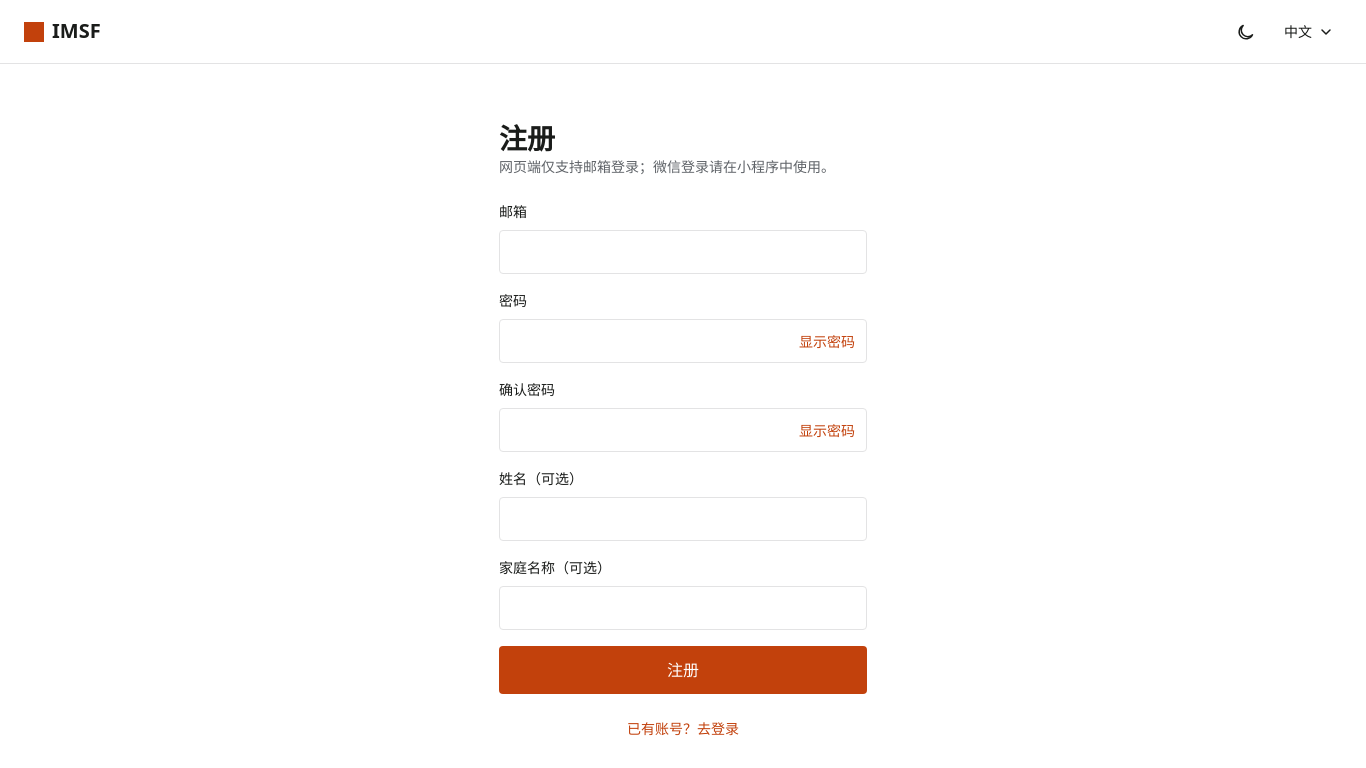
Test case: validation › rejects an invalid email and a short password
Type "bad" into the field labelled "邮箱" at (683, 252), box top-left (499, 230), bottom-right (867, 274)
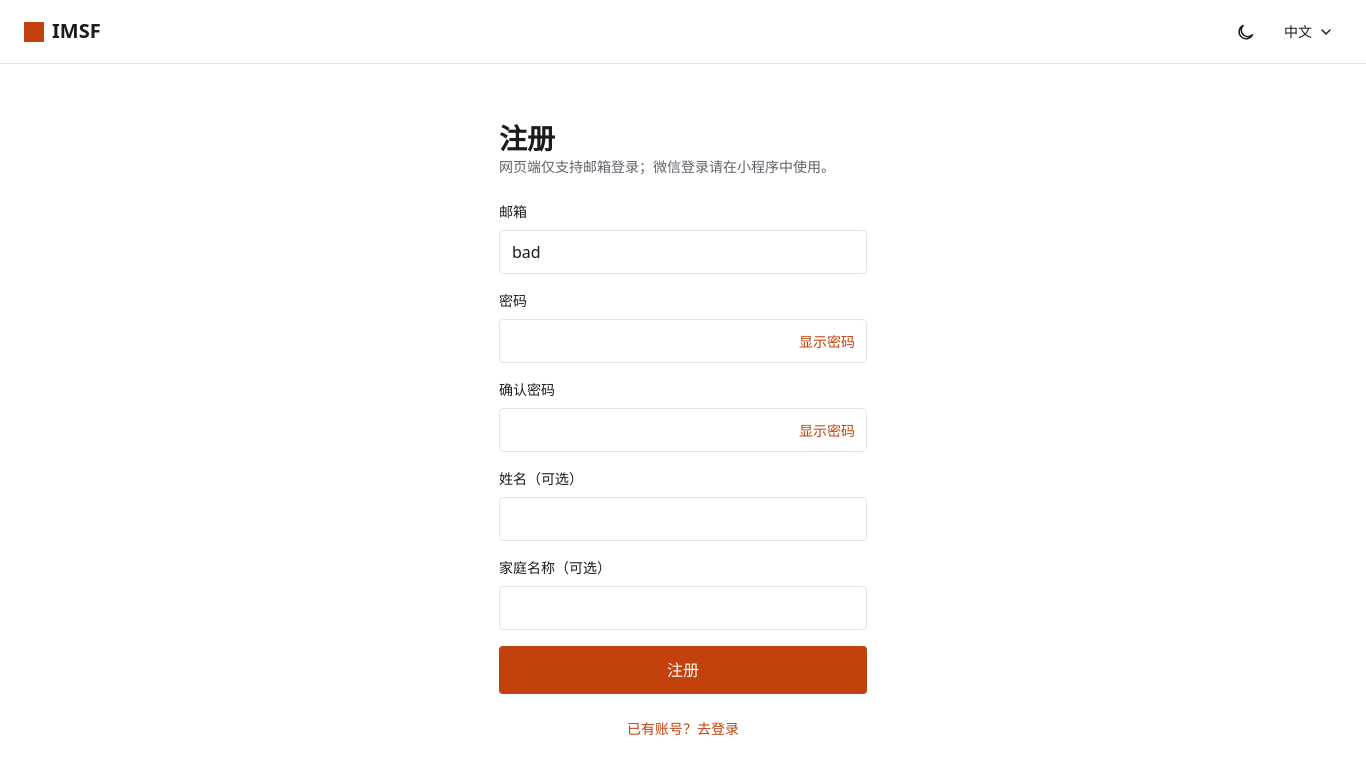
Type "short" into the password field labelled "密码" at (683, 341), box top-left (499, 319), bottom-right (867, 363)
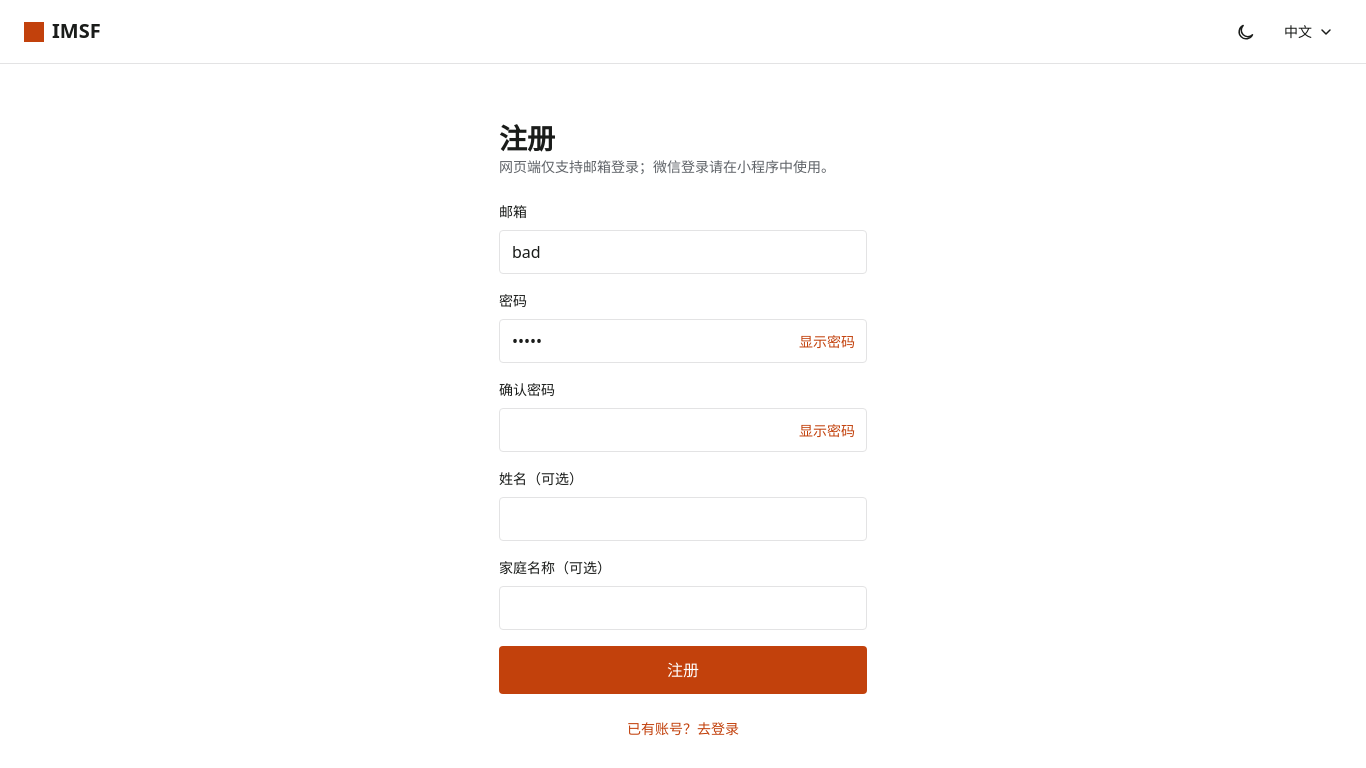
Type "short" into the password field labelled "确认密码" at (683, 430), box top-left (499, 408), bottom-right (867, 452)
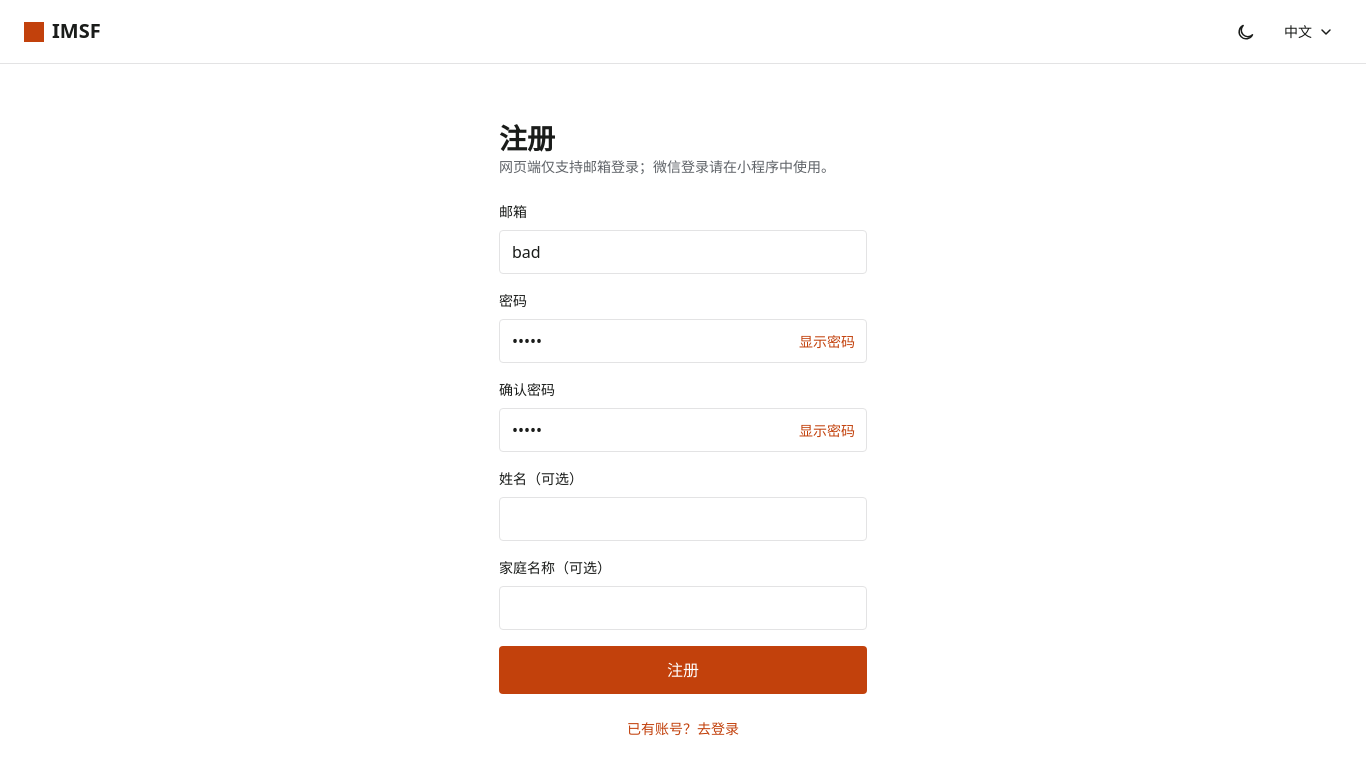
Click the button "注册" at (683, 670), box top-left (499, 646), bottom-right (867, 694)
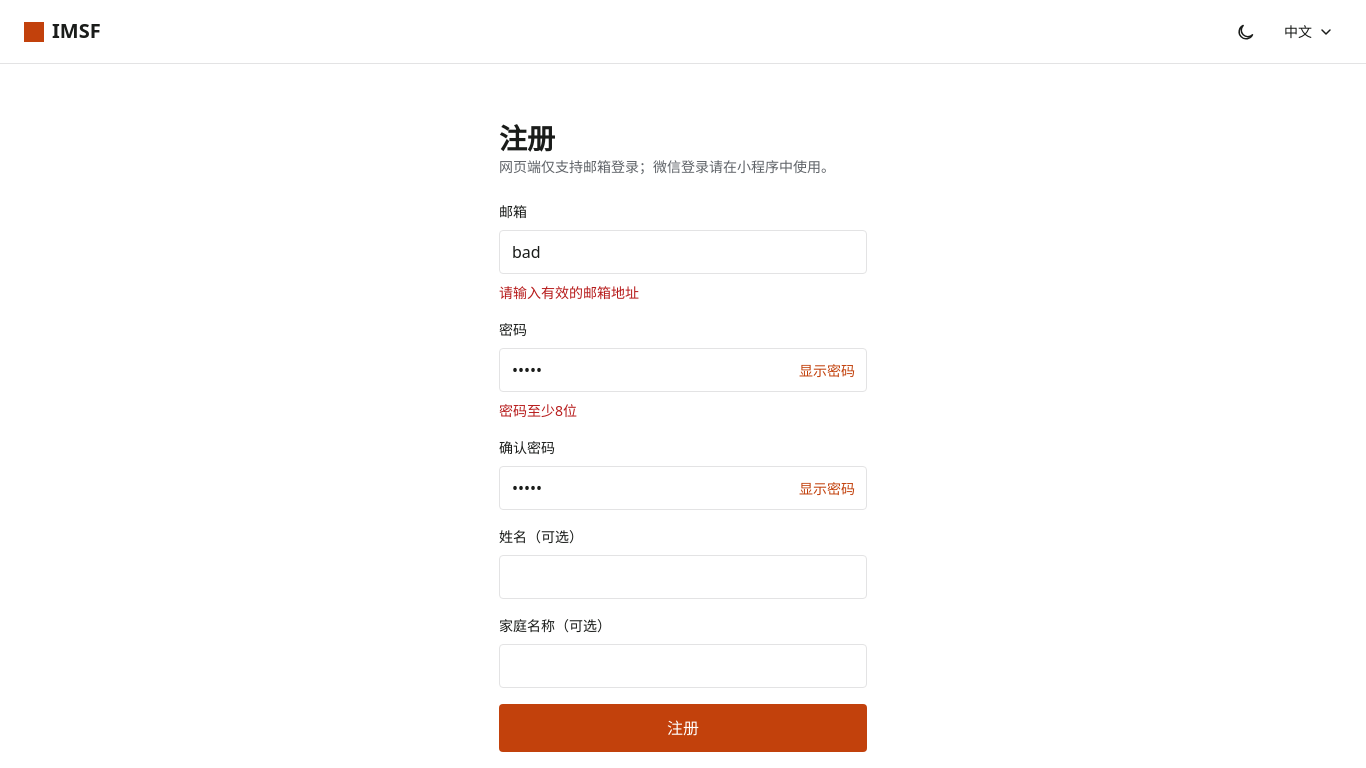
Check: the text "请输入有效的邮箱地址" is shown, box top-left (499, 283), bottom-right (639, 302)
Check: the text "密码至少8位" is shown, box top-left (499, 401), bottom-right (577, 420)
